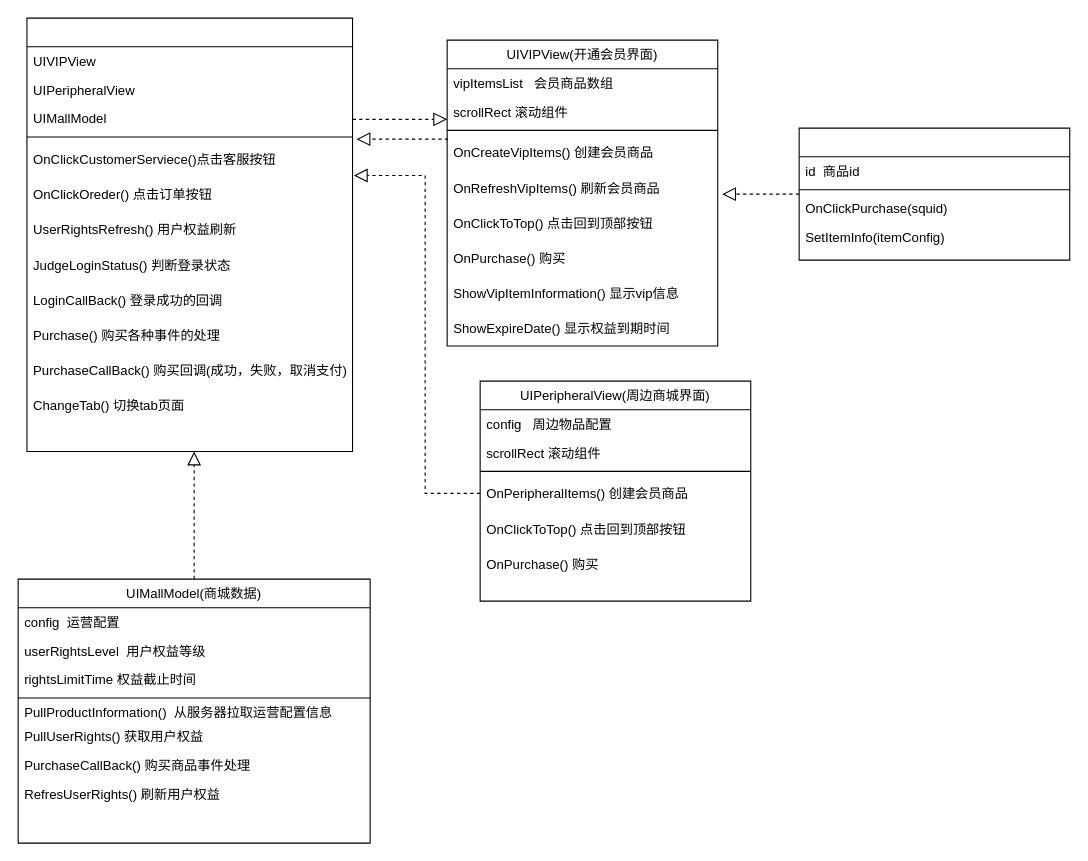
This 1088x861 diagram has some shape labels left out. Each missing label, with the box of its shape:
UIMallView (商城主界面): (26, 17, 353, 452)
UIMallVIPItem(会员商品信息): (798, 127, 1070, 260)
